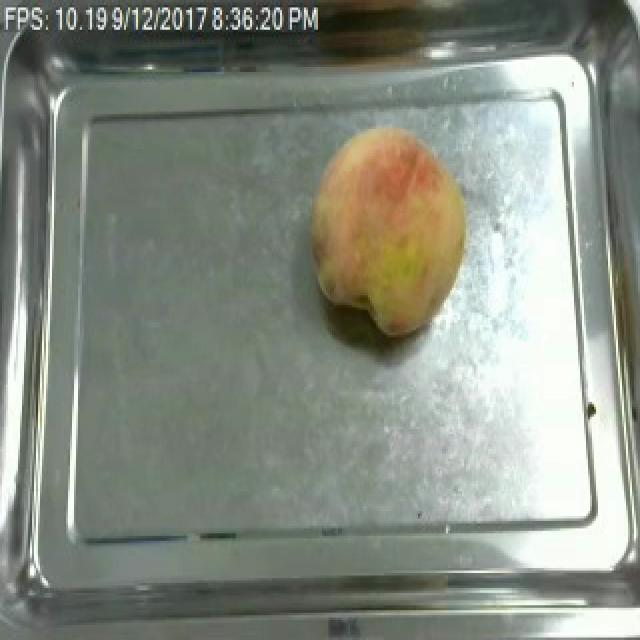Fruit: (300, 114, 480, 345)
